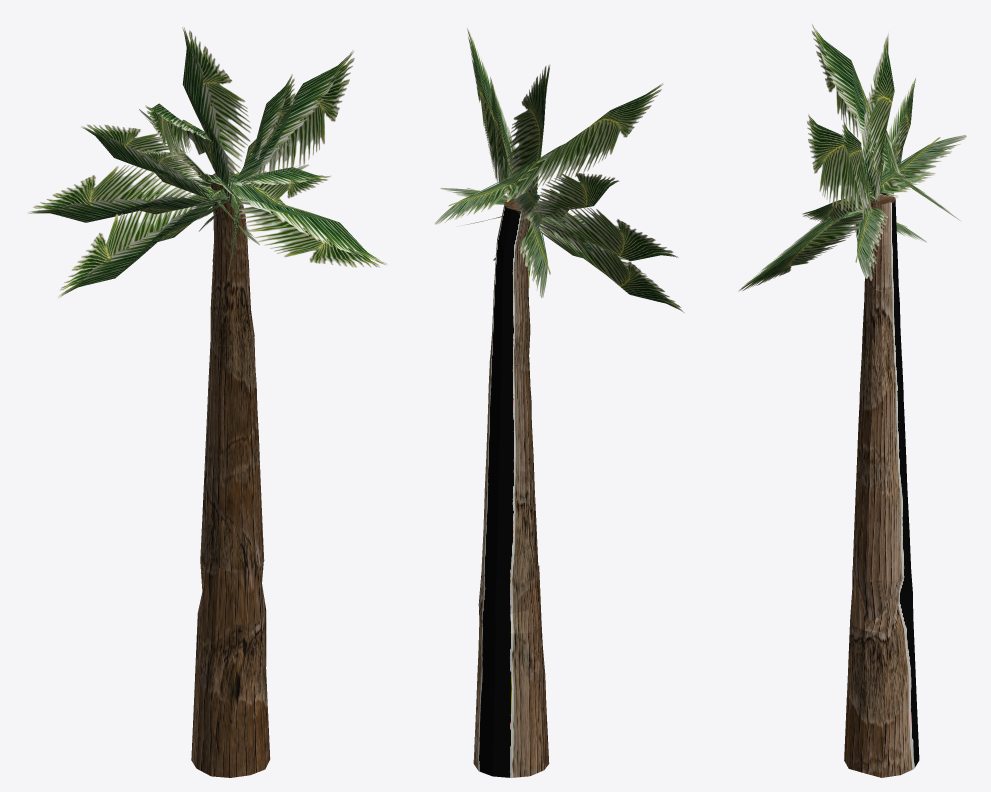
Rendered from coconut_tree.glb.
3 renders of one model, left to right at view 1: azimuth 30°, elevation 25°; view 2: azimuth 150°, elevation 25°; view 3: azimuth 270°, elevation 25°, orthographic. The views are drawn at different scales.
Visible parts, largest first — view 1: Plane.010, Plane.015; view 2: Plane.010; view 3: Plane.010.
Part boxes in pixels (x1=…): Plane.010: x1=28, y1=27, x2=387, y2=777; Plane.015: x1=136, y1=149, x2=214, y2=195; Plane.010: x1=434, y1=28, x2=684, y2=777; Plane.010: x1=738, y1=24, x2=966, y2=777.
Bounding box in the file's own units: 11.65 × 28.78 × 9.02.
Materials: 11 (11 with a texture image).
